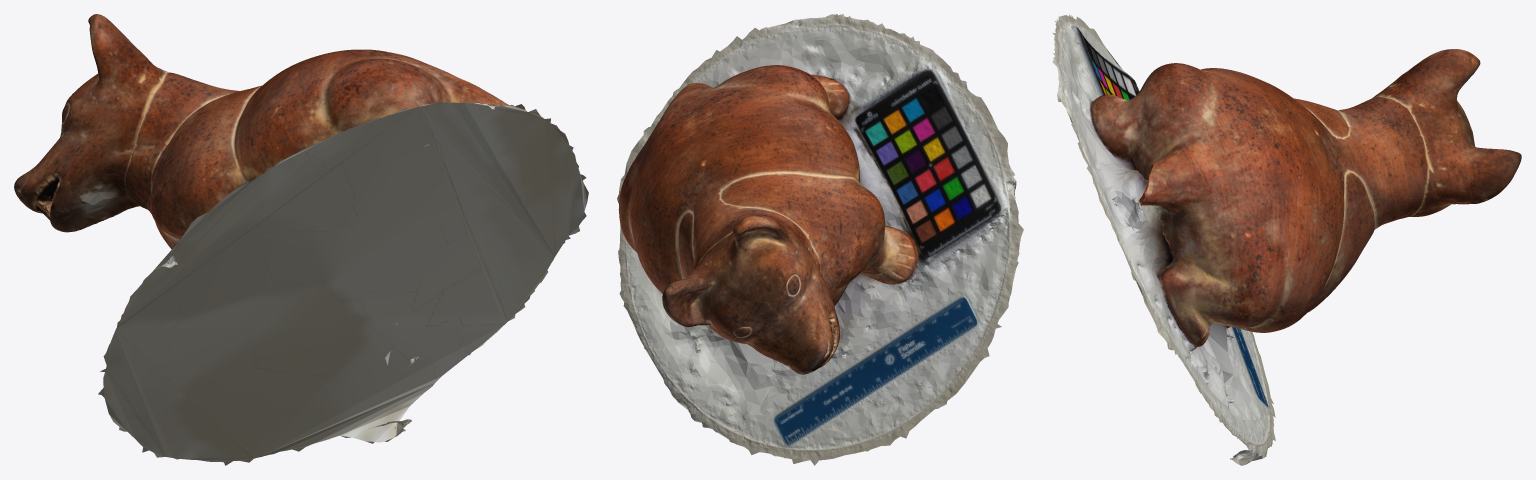
Rendered from dog.glb.
3 views of the same model, side by side, from view 1: azimuth 30°, elevation 25°; view 2: azimuth 150°, elevation 25°; view 3: azimuth 270°, elevation 25° (orthographic). The views are drawn at different scales.
Bounding box in the file's own units: 2.28 × 2 × 2.16.
Materials: 1 (1 with a texture image).
